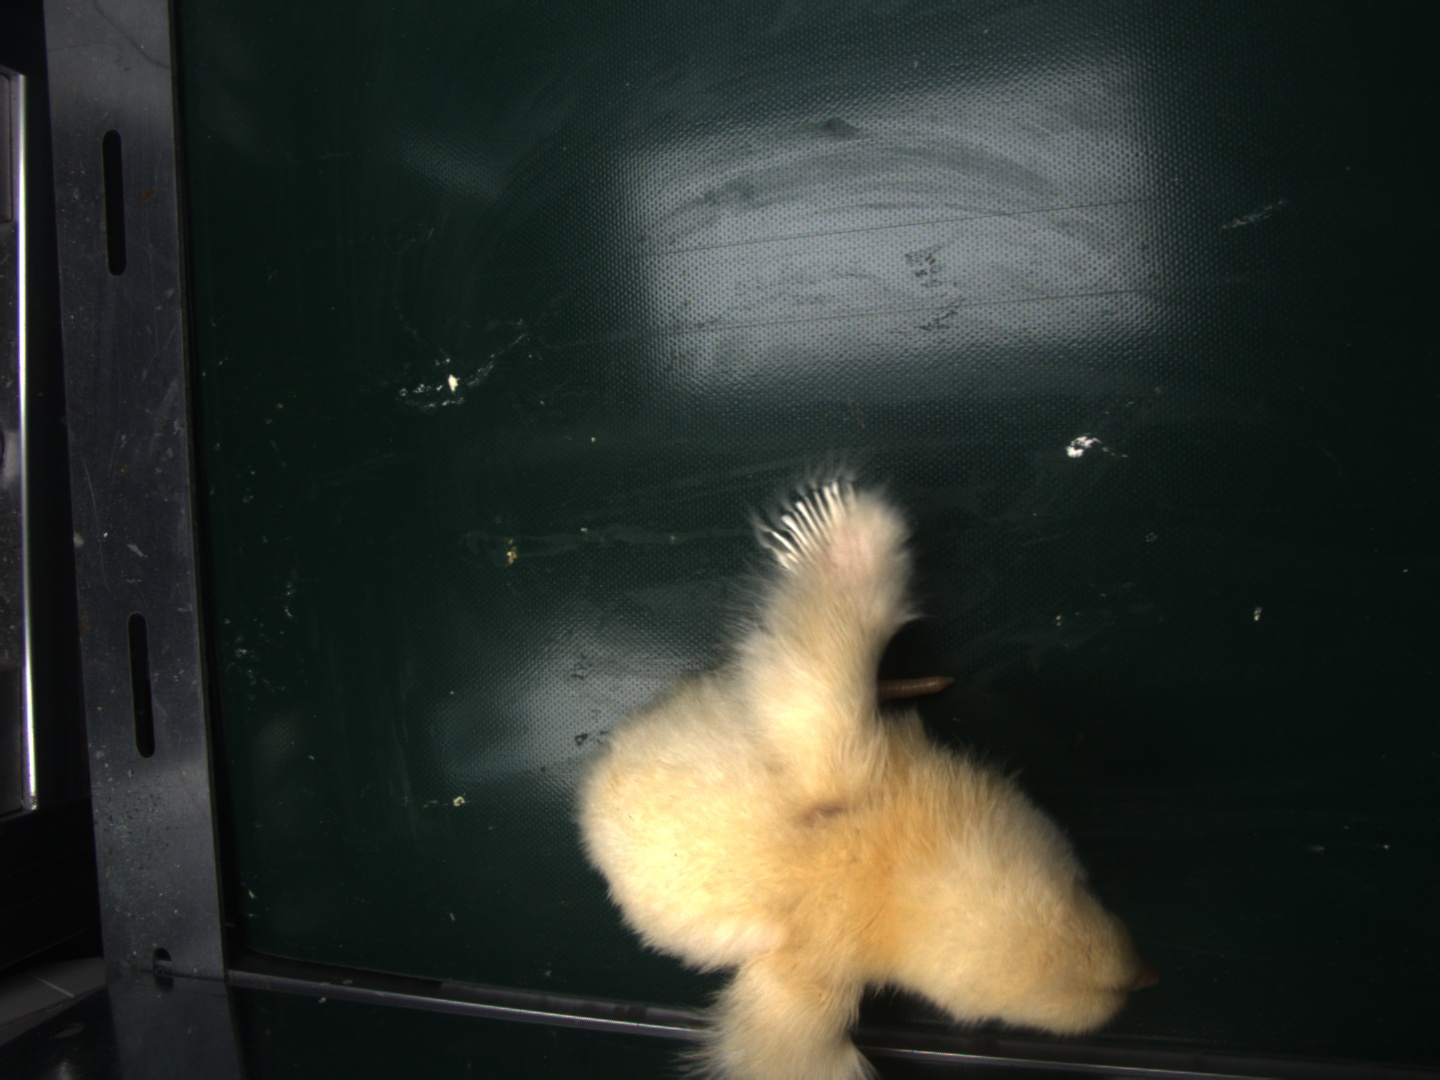male: (776, 486, 855, 569)
